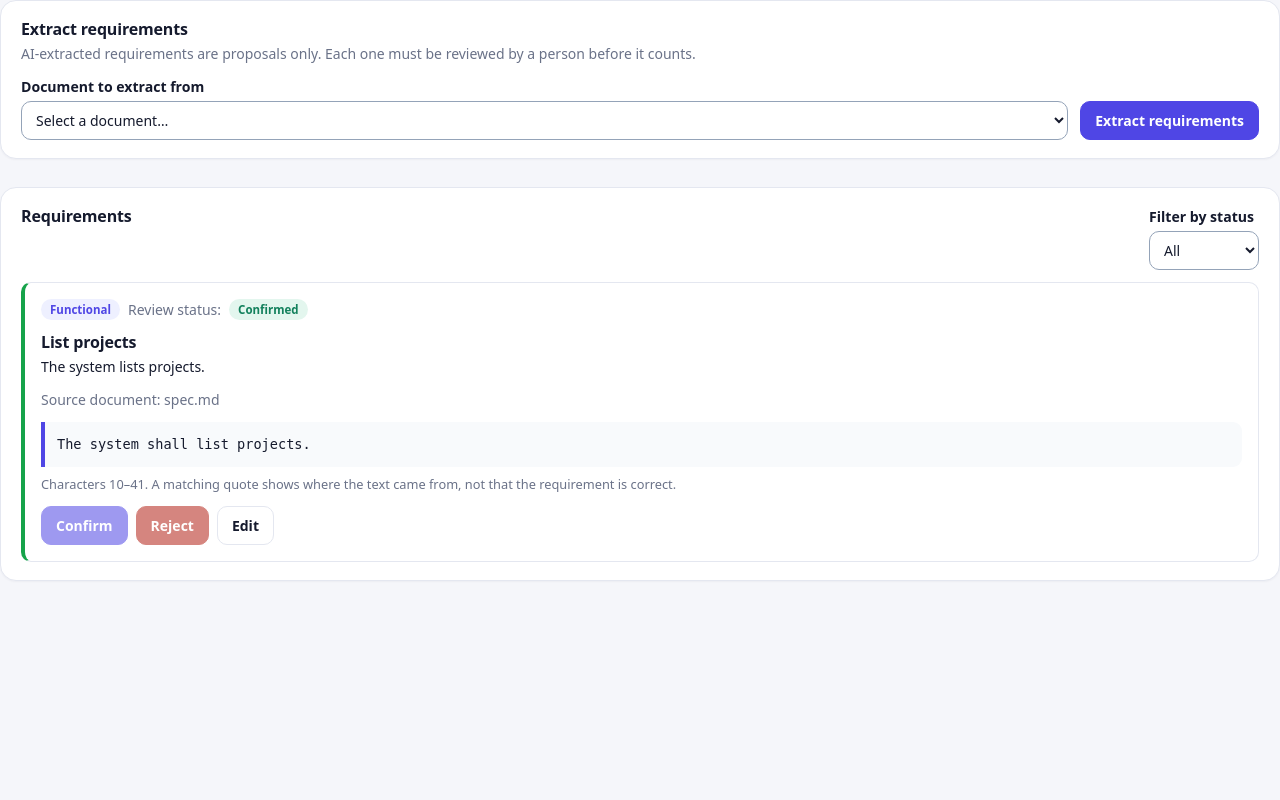
Test: RequirementsSection › edits title and description; a confirmed item returns to proposed
This screenshot has width=1280, height=800.
Expected: the heading "List projects" is shown, top-left (41, 332), bottom-right (136, 354)
Click the button "Edit" at coordinates (245, 526), box top-left (217, 506), bottom-right (274, 545)
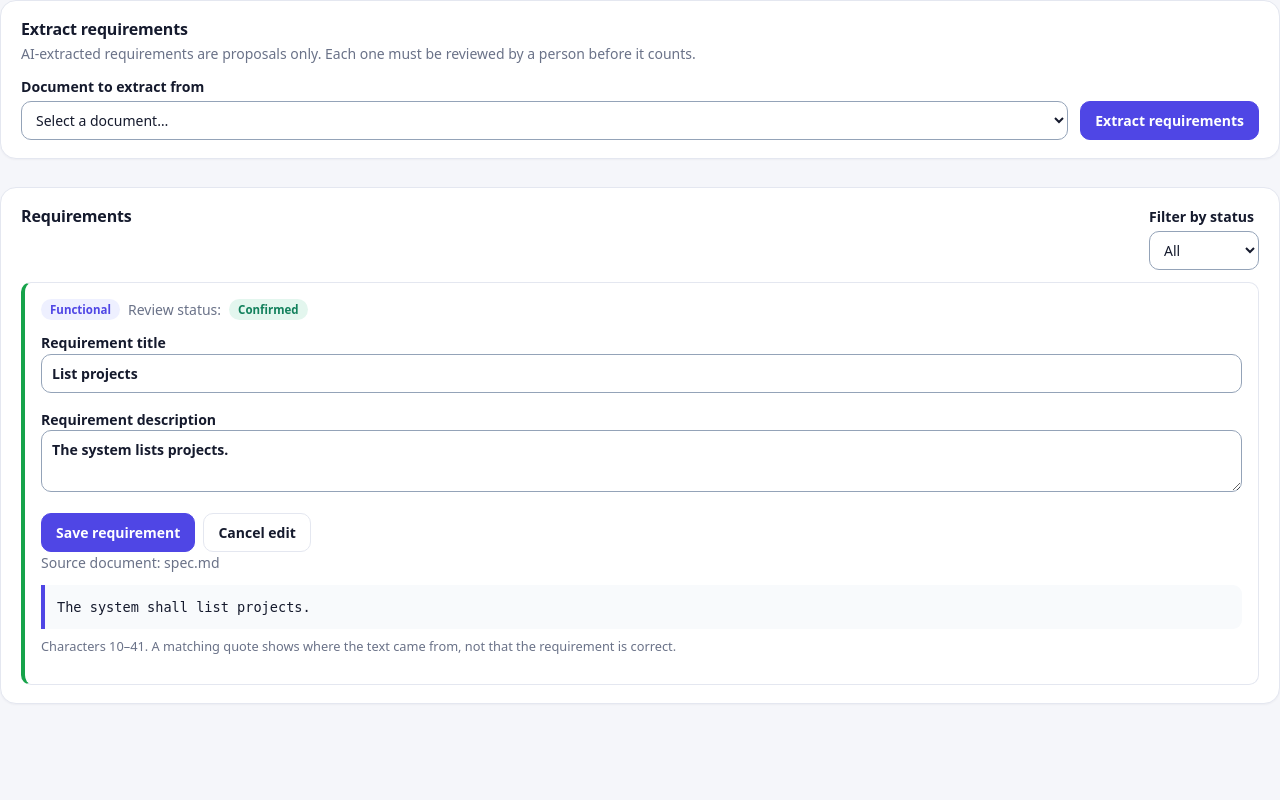
Replace the text in the field labelled "Requirement title" with "Show projects" at coordinates (642, 373), box top-left (41, 354), bottom-right (1242, 393)
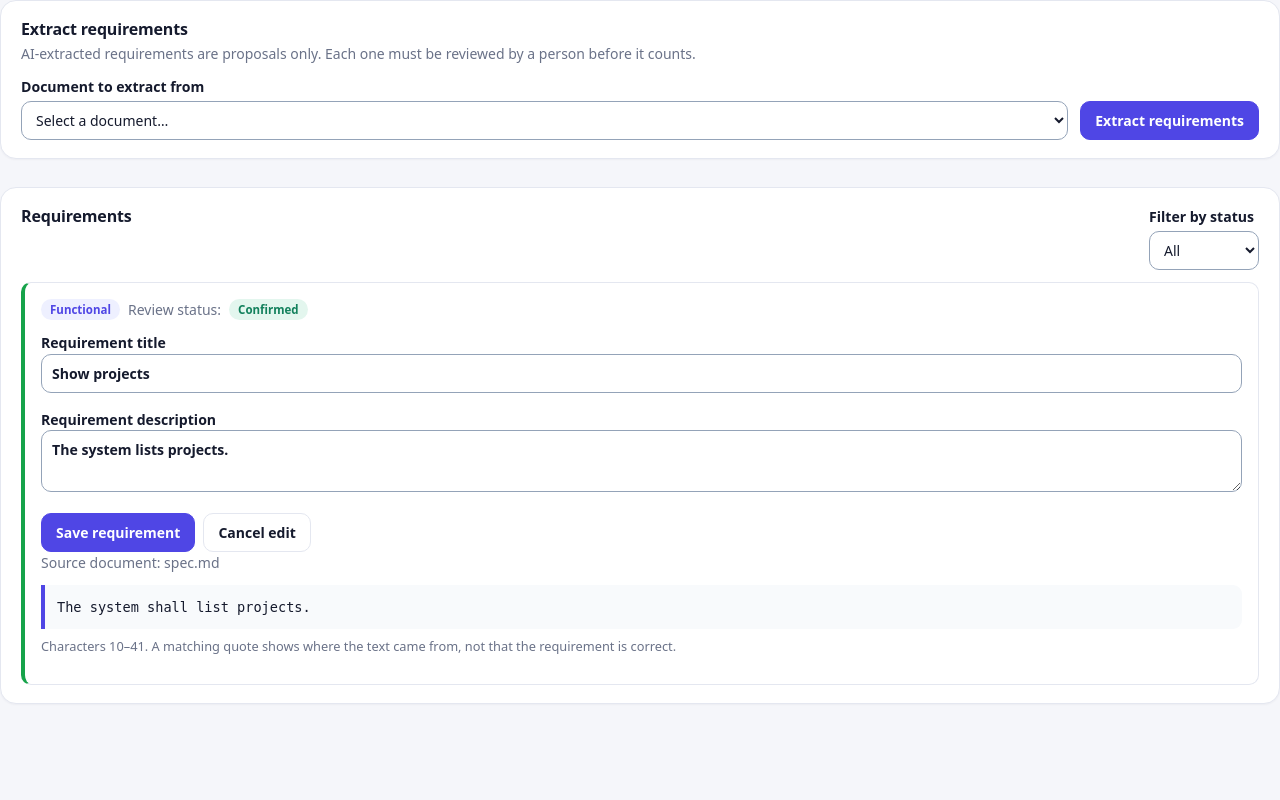
Click the button "Save requirement" at coordinates (118, 532), box top-left (41, 513), bottom-right (195, 552)
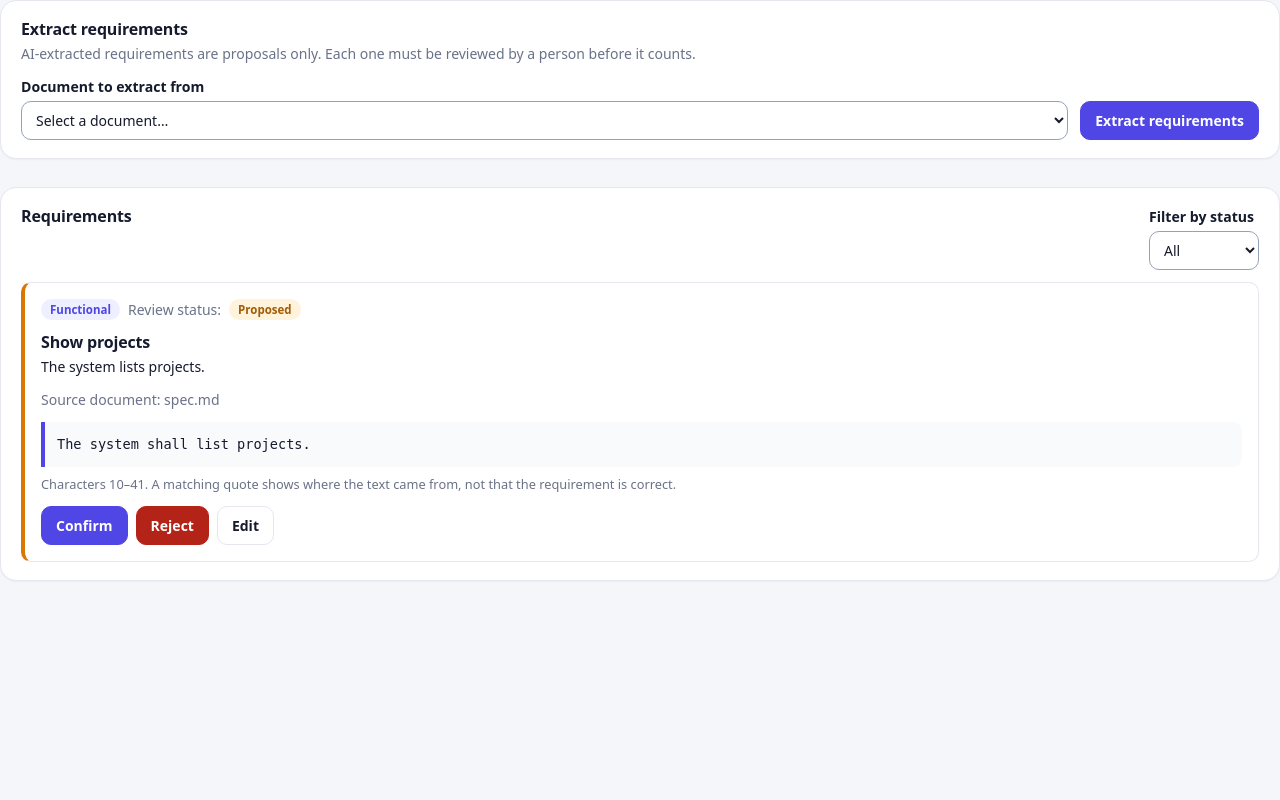
Expected: the text named "Source quote" reads "The system shall list projects.", top-left (57, 436), bottom-right (311, 452)
Expected: the heading "Show projects" is shown, top-left (41, 332), bottom-right (150, 354)
Expected: the text with test id "requirement-status" reads "proposed", top-left (238, 302), bottom-right (292, 317)
